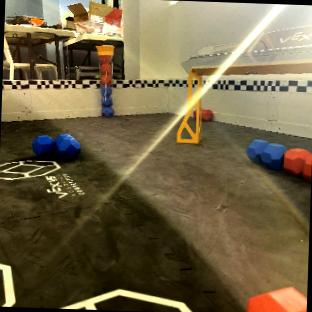Goal: (177, 22, 312, 144)
V5_BLUE: (247, 139, 285, 170), (33, 133, 80, 158), (101, 86, 114, 116)
V5_RED: (248, 287, 307, 312), (97, 45, 114, 115), (284, 148, 312, 180), (201, 109, 212, 122), (192, 110, 196, 118)
